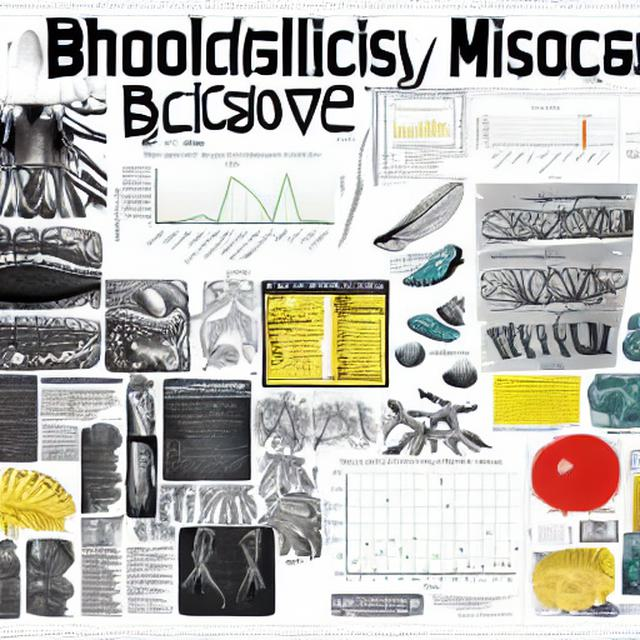Graph: (110, 149, 338, 277), (322, 456, 522, 593), (471, 100, 620, 183), (167, 429, 251, 481), (387, 112, 438, 142)
